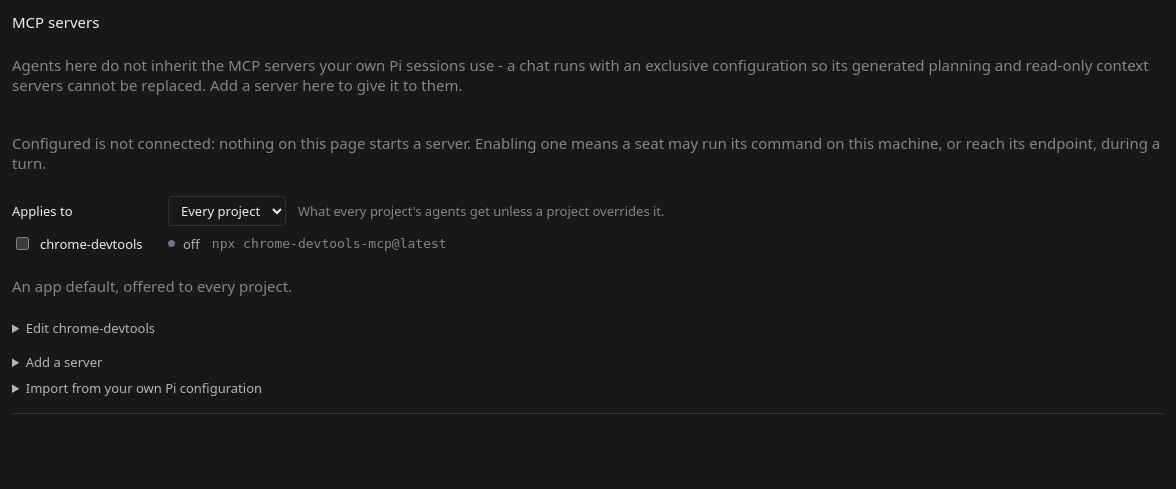
Test: surfaces the server's refusal rather than pretending a save worked
Click the checkbox named "enable chrome-devtools".
click(22, 244)  # box x1=16 y1=237 x2=29 y2=250
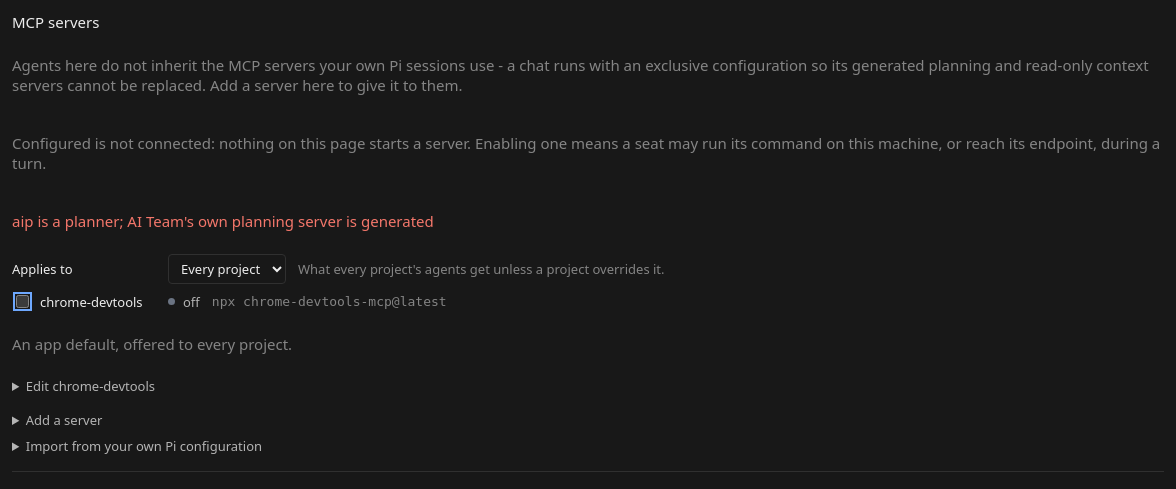
Result: the text "aip is a planner; AI Team's own planning server is generated" is shown at x1=12 y1=211 x2=434 y2=231
